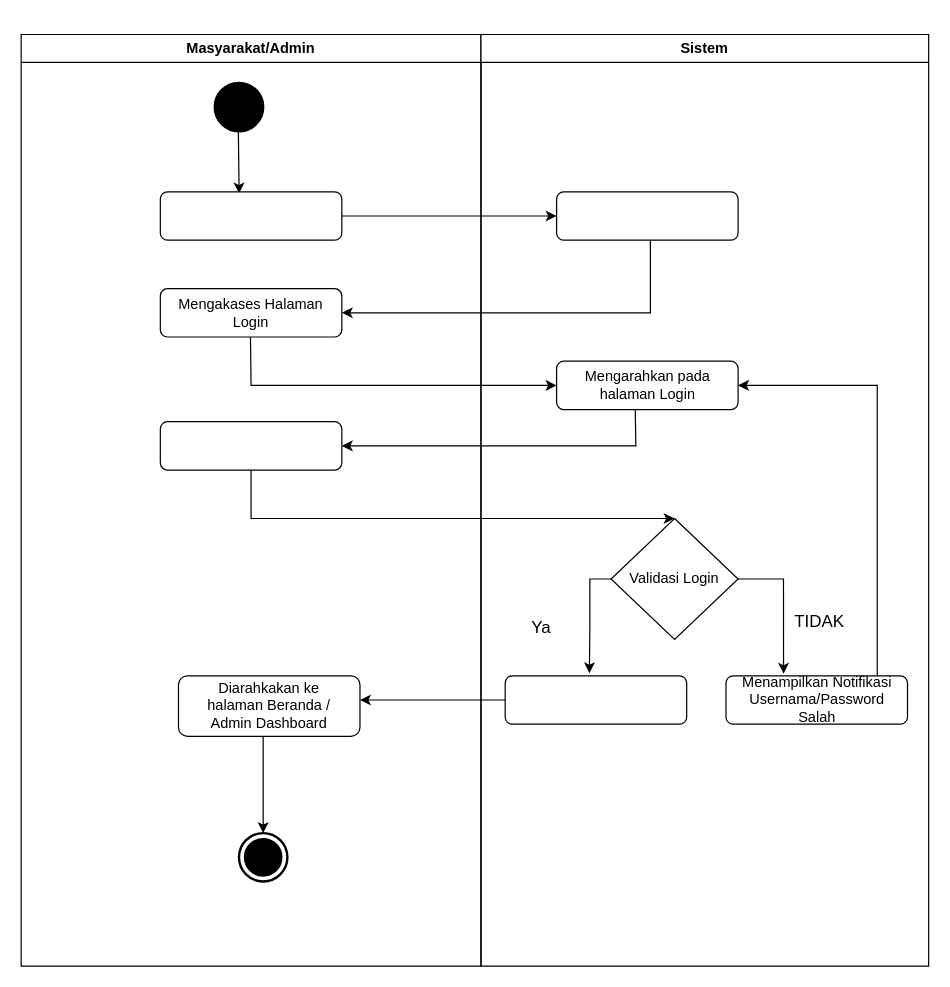
This 950x987 diagram has some shape labels left out. The shapes that lost their labels are listed below. From the top down, each one's centre as x and y in pixels, then its label:
At point (250, 215): "Mengakases web LaporAja".
At point (646, 215): "Mengarahkan pada halaman Beranda".
At point (250, 445): "Mengisi Form username password".
At point (595, 699): "Menampilkan Notifikasi Berhasil Log in".
